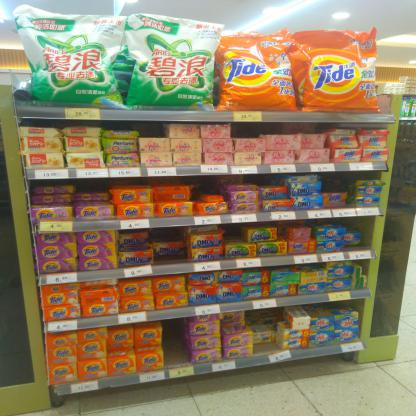Void: (164, 324, 193, 362), (158, 230, 187, 261), (267, 123, 322, 133), (327, 173, 354, 192), (139, 121, 164, 141), (235, 121, 258, 136)
